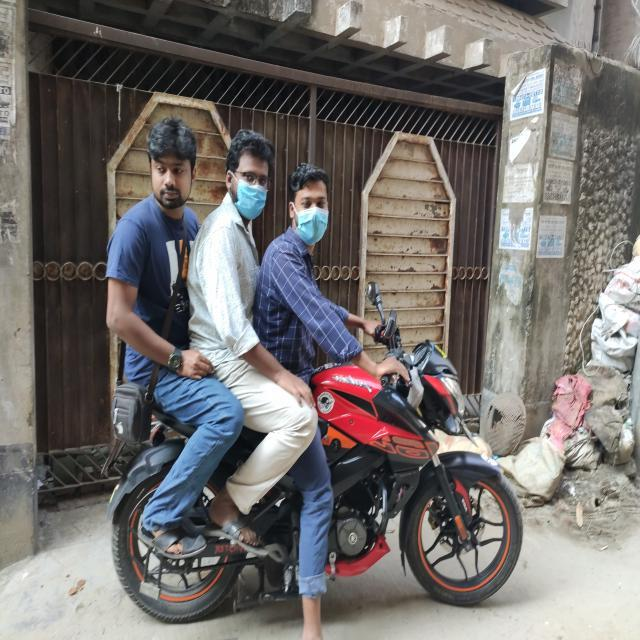Overloading: (76, 112, 452, 576)
